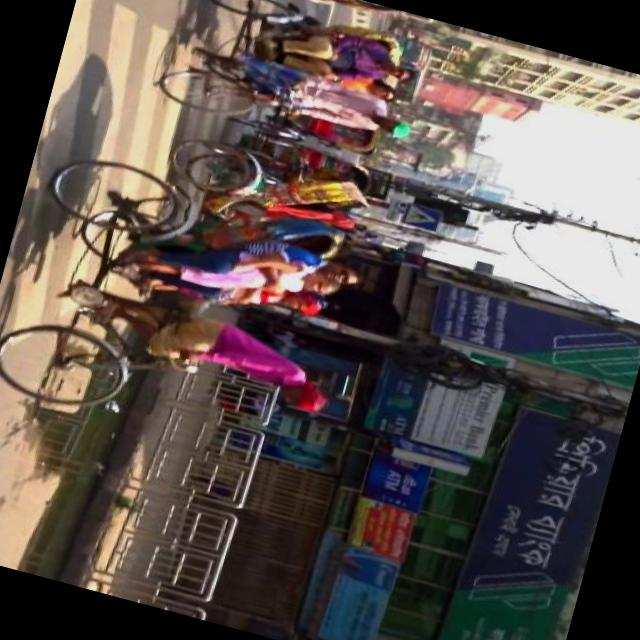motorcycle: (0, 141, 378, 478), (148, 0, 435, 168), (156, 126, 381, 271), (230, 92, 386, 162), (226, 122, 380, 191)
